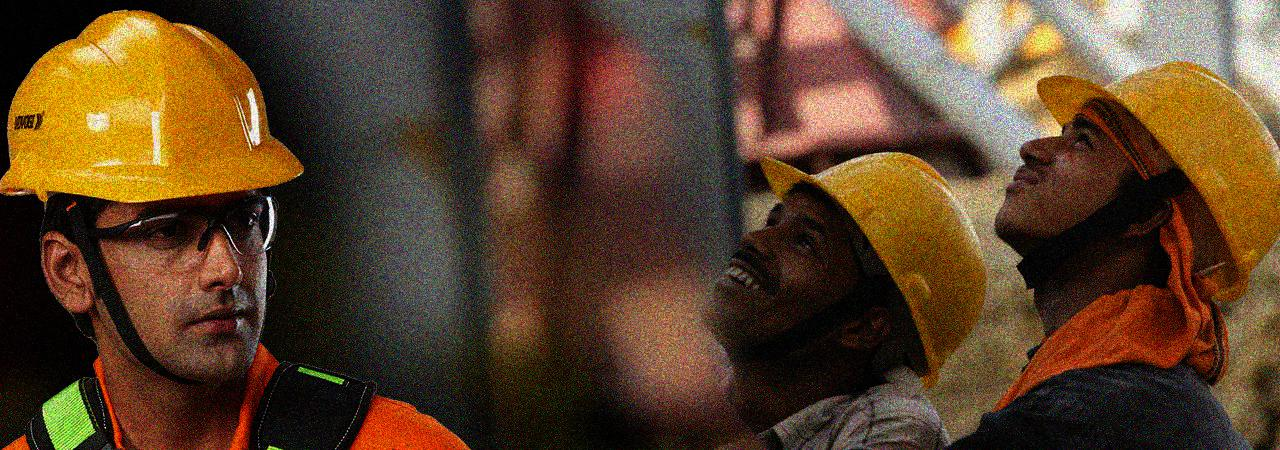helmet: (1, 5, 304, 379), (993, 58, 1280, 317), (698, 150, 995, 400)
